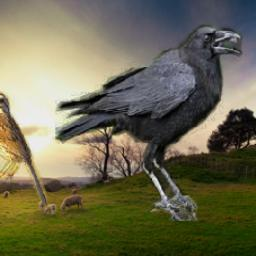Crow: (55, 25, 242, 221)
Sparrow: (0, 92, 50, 206)
